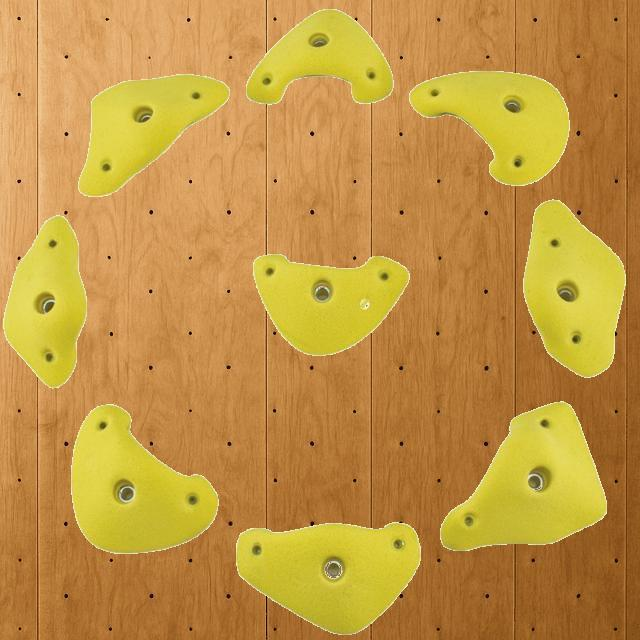Jug: (439, 401, 607, 551), (70, 403, 218, 553), (235, 521, 420, 635), (78, 73, 230, 197), (409, 70, 569, 186), (522, 199, 626, 377), (252, 252, 408, 356), (3, 215, 87, 388), (245, 8, 392, 104)
